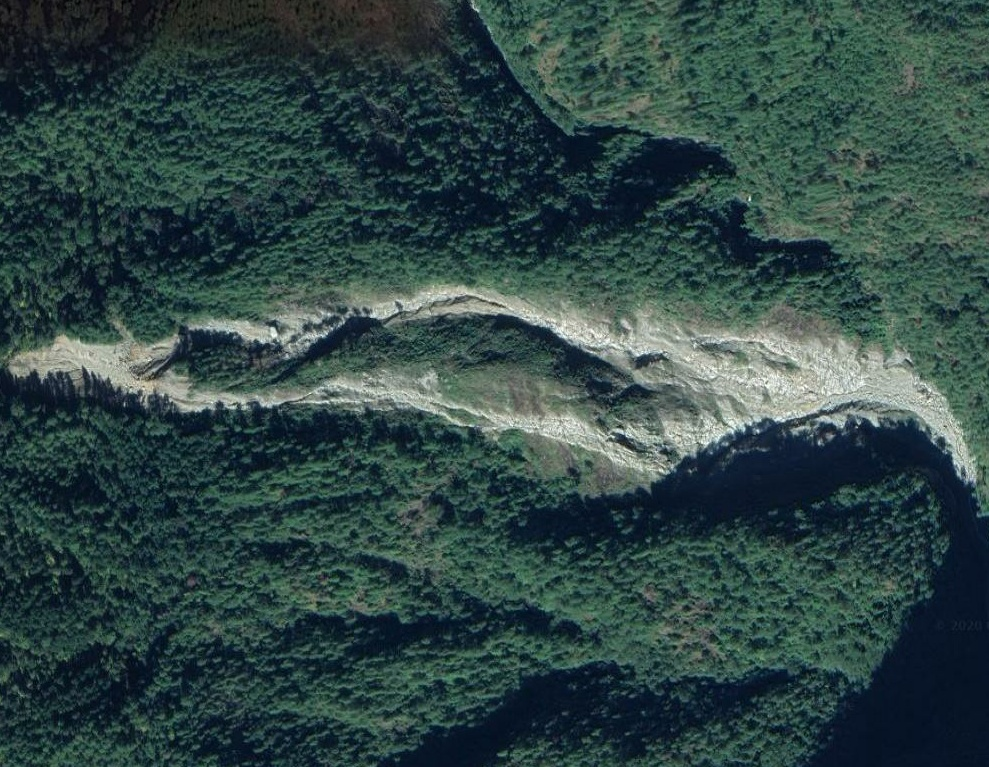slope: (14, 273, 979, 488)
